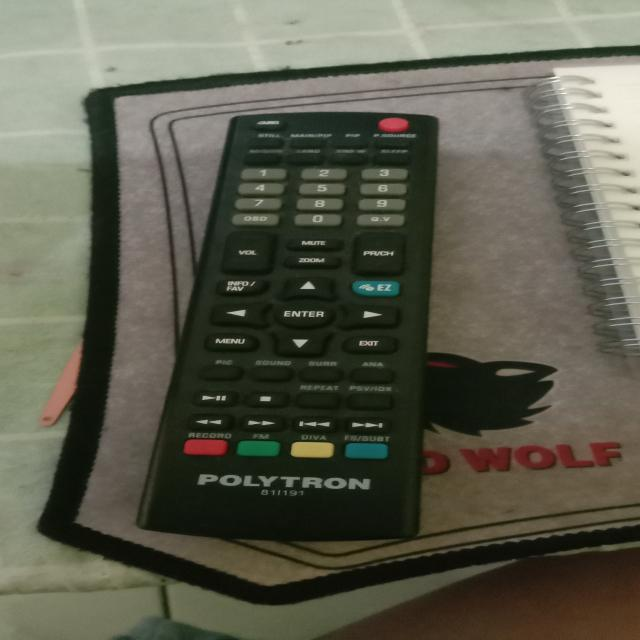remote: (131, 108, 446, 534)
